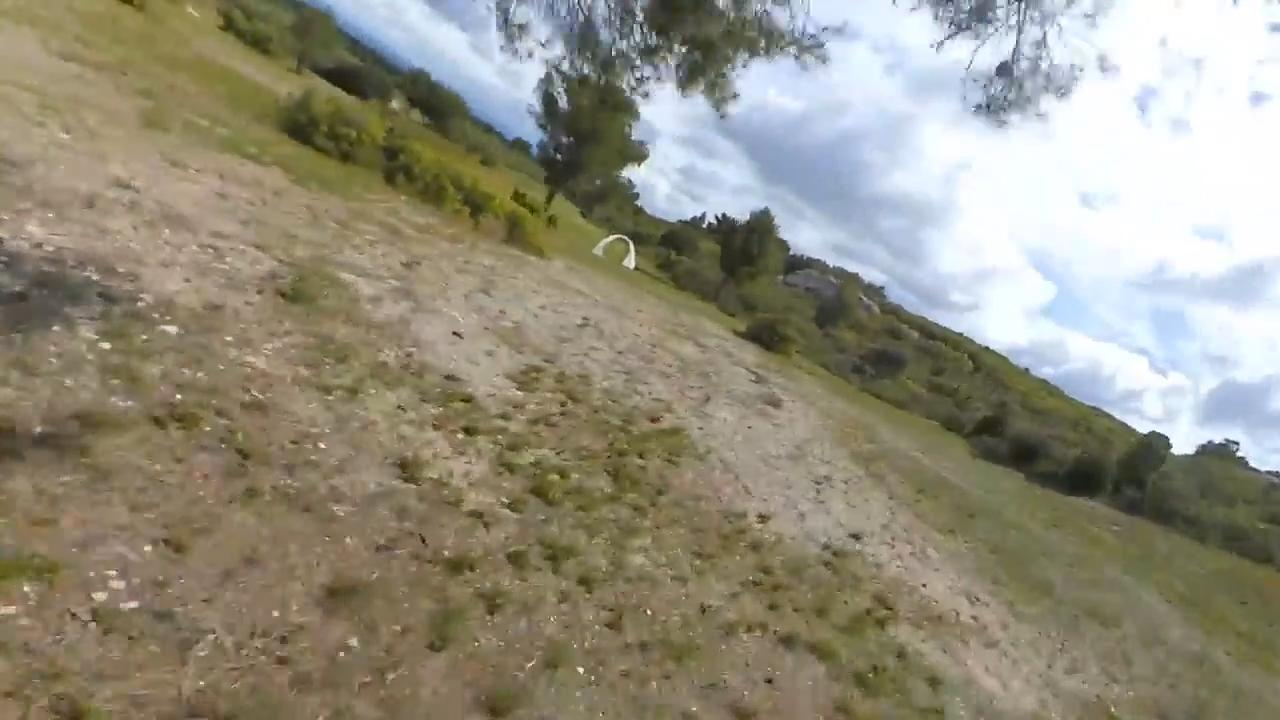gate: (592, 234, 639, 268)
